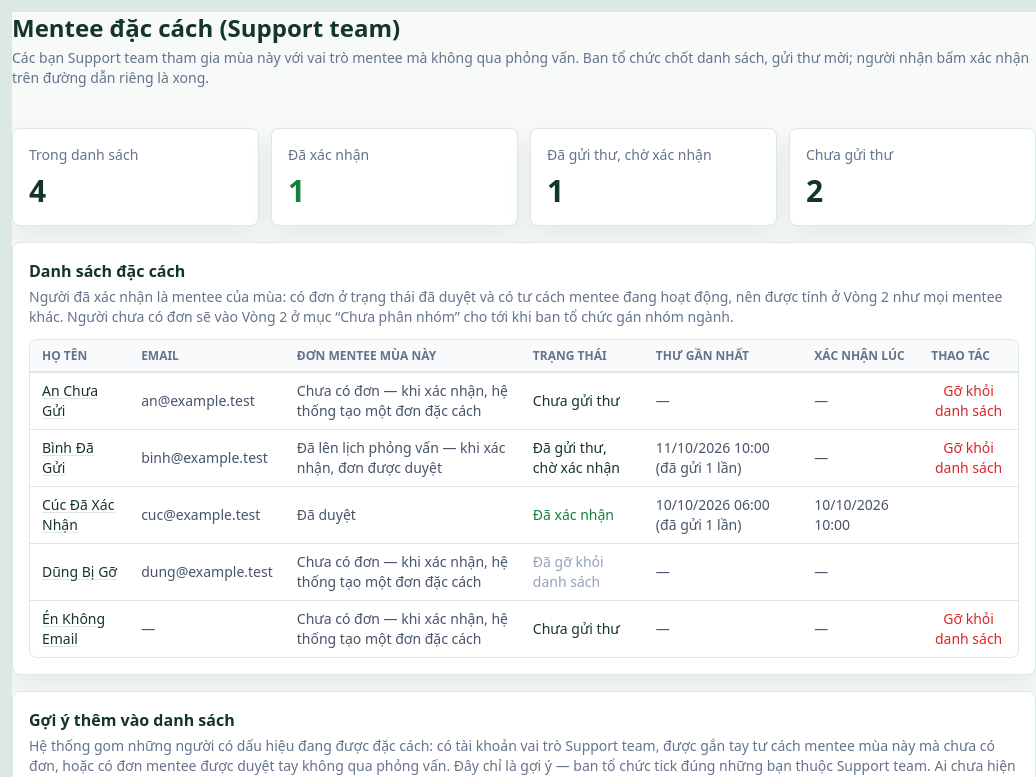
Test: trang BTC /applications/mentee-dac-cach › gỡ là hai bước ngay trên trang: bấm lần đầu chỉ mở câu hỏi, form bước hai mang đúng dòng và dấu xác nhận
Click the button "Gỡ khỏi danh sách" in the row of "An Chưa Gửi": (969, 401) [931,381,1006,421]
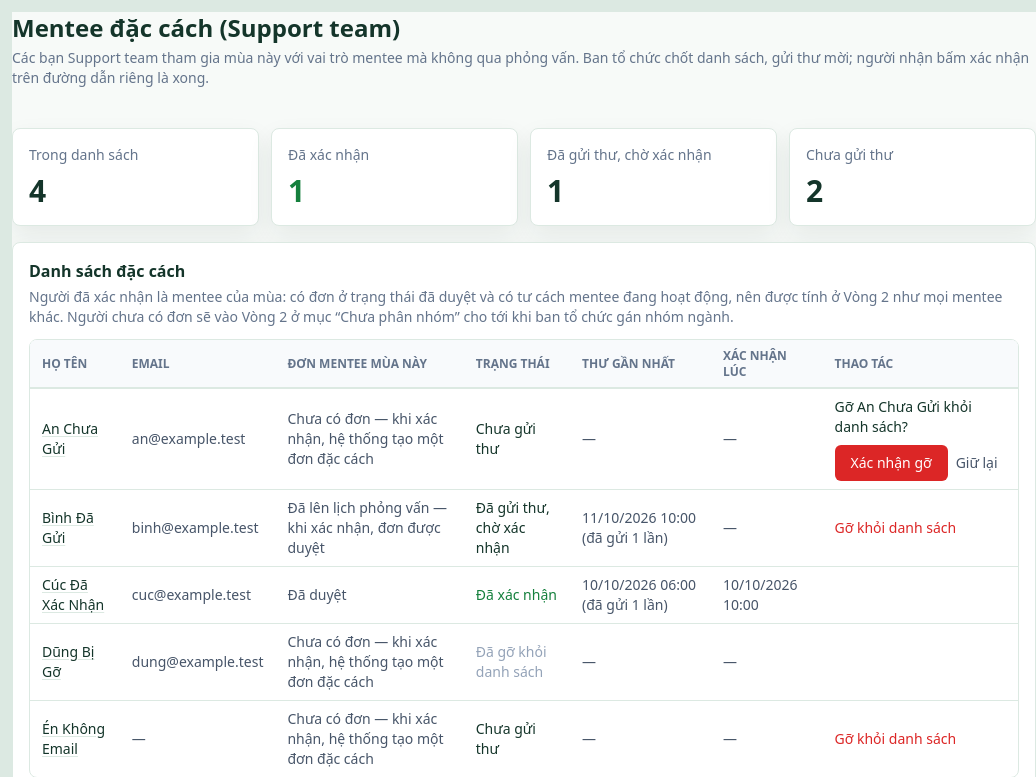
Result: the form shows "Gỡ An Chưa Gửi khỏi danh sách?" at [834,397,1006,481]
Click the button "Giữ lại": (977, 463) [956,453,998,473]
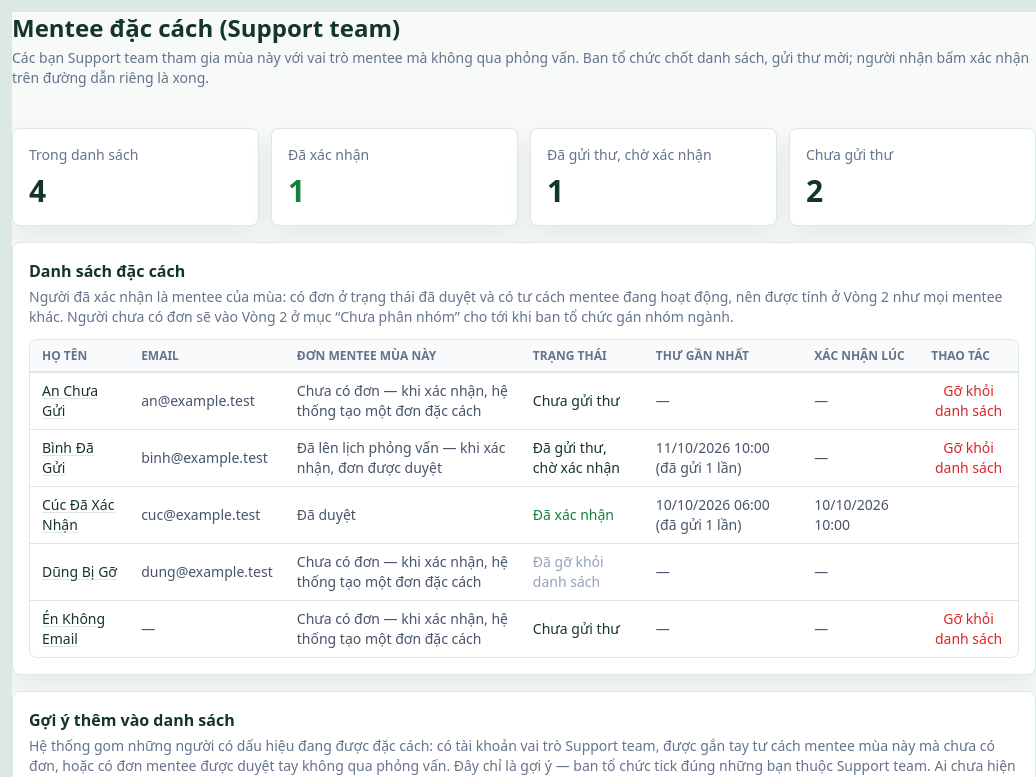
Result: the form "Gỡ An Chưa Gửi khỏi danh sách? Xác nhận gỡ Giữ lại" is gone
